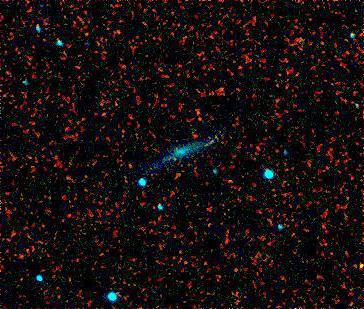star: (346, 249, 364, 279)
